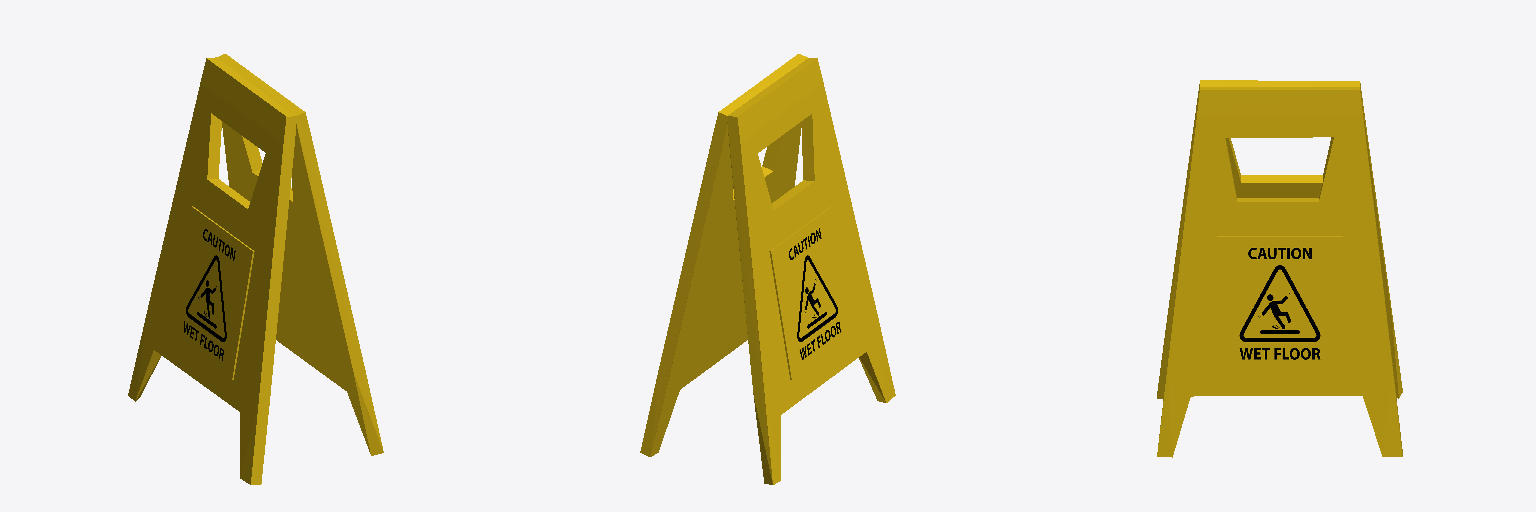
The picture shows the model from 3 angles: view 1: azimuth 30°, elevation 25°; view 2: azimuth 150°, elevation 25°; view 3: azimuth 270°, elevation 25°; orthographic projection.
Visible parts, largest first — view 1: Plane.001; view 2: Plane.001; view 3: Plane.001.
Boxes of the visible parts, box(x1,y1,x2,y2) form: Plane.001: box(128, 54, 383, 484); Plane.001: box(640, 54, 895, 484); Plane.001: box(1157, 80, 1402, 457).
Size of the model in its own units: 1.16 by 2.82 by 1.84.
Materials: 4 (2 with a texture image).